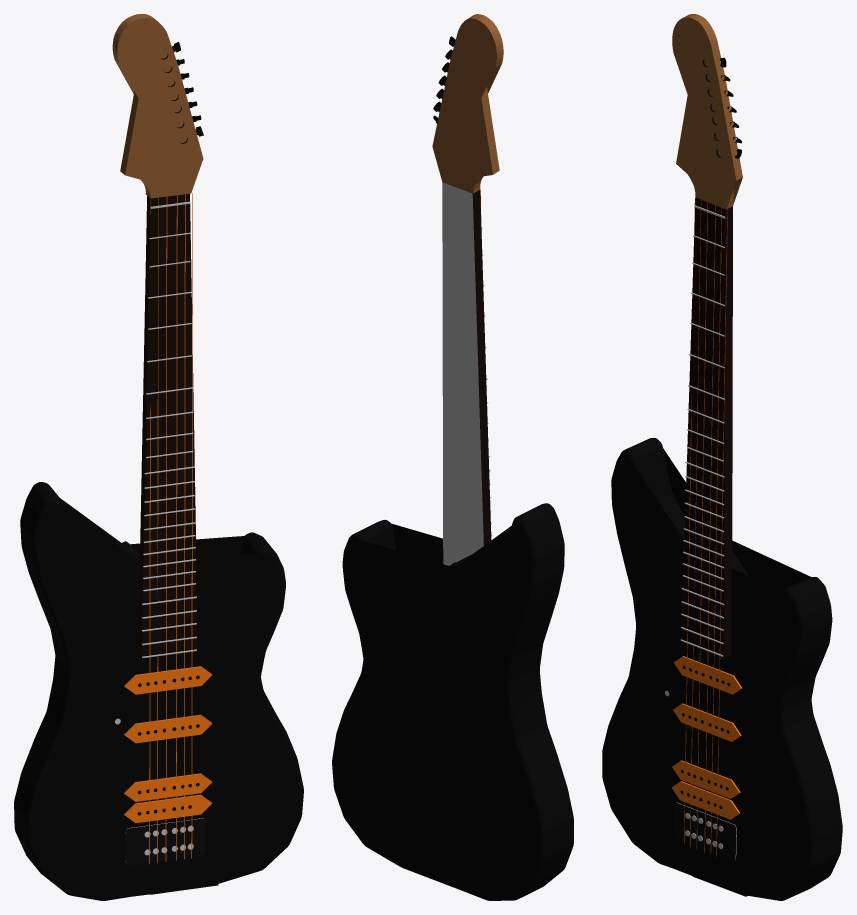
The model's file is GuitarBlack.obj.
3 renders of one model, left to right at view 1: azimuth 30°, elevation 25°; view 2: azimuth 150°, elevation 25°; view 3: azimuth 330°, elevation 25°, orthographic. The views are drawn at different scales.
Parts seen in each view (by area): view 1: Vert.044, Vert.046, Vert.049, Plane.178_Plane.199, Plane.201_Plane.202, Plane.204_Plane.205, Vert.048, Vert.045; view 2: Vert.044, Vert.047, Vert.049, Vert.045; view 3: Vert.044, Vert.046, Vert.049, Plane.178_Plane.199, Plane.201_Plane.202, Vert.045, Vert.048, Plane.204_Plane.205.
Part boxes in pixels (bbox=[...]): Vert.044: bbox=[14, 482, 303, 900]; Vert.046: bbox=[141, 194, 197, 658]; Vert.049: bbox=[112, 14, 203, 198]; Plane.178_Plane.199: bbox=[124, 666, 212, 823]; Plane.201_Plane.202: bbox=[149, 193, 192, 864]; Plane.204_Plane.205: bbox=[125, 818, 205, 864]; Vert.048: bbox=[142, 201, 196, 658]; Vert.045: bbox=[138, 193, 189, 658]; Vert.044: bbox=[332, 503, 573, 900]; Vert.047: bbox=[442, 182, 483, 565]; Vert.049: bbox=[432, 14, 503, 193]; Vert.045: bbox=[453, 186, 491, 545]; Vert.044: bbox=[602, 437, 842, 900]; Vert.046: bbox=[681, 198, 725, 657]; Vert.049: bbox=[672, 14, 742, 209]; Plane.178_Plane.199: bbox=[671, 656, 741, 819]; Plane.201_Plane.202: bbox=[684, 198, 727, 856]; Vert.045: bbox=[695, 197, 732, 657]; Vert.048: bbox=[680, 205, 725, 656]; Plane.204_Plane.205: bbox=[674, 802, 736, 860].
Size of the model in its own units: 0.4618 by 1.52 by 0.1694.
